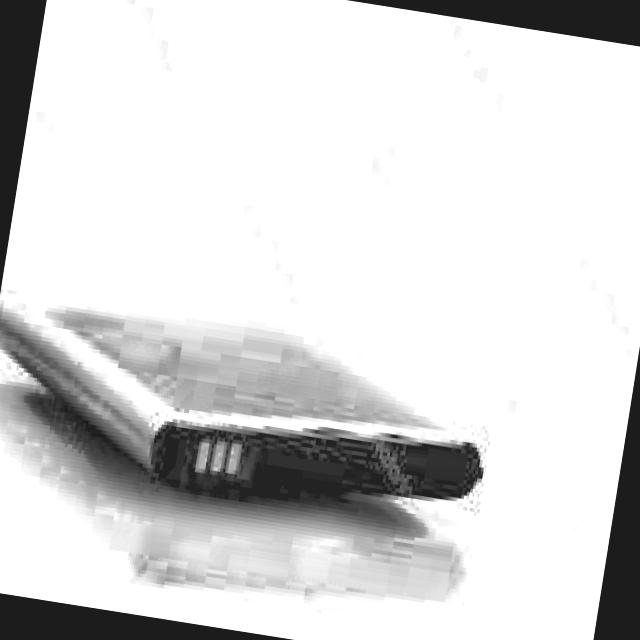Battery: (0, 292, 492, 511)
